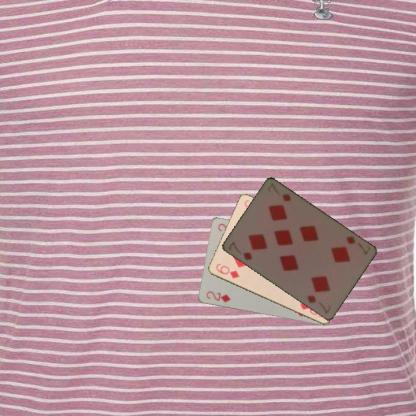2d: (203, 288, 232, 304)
6d: (213, 261, 240, 280)
7d: (343, 233, 372, 256), (225, 239, 253, 261)
